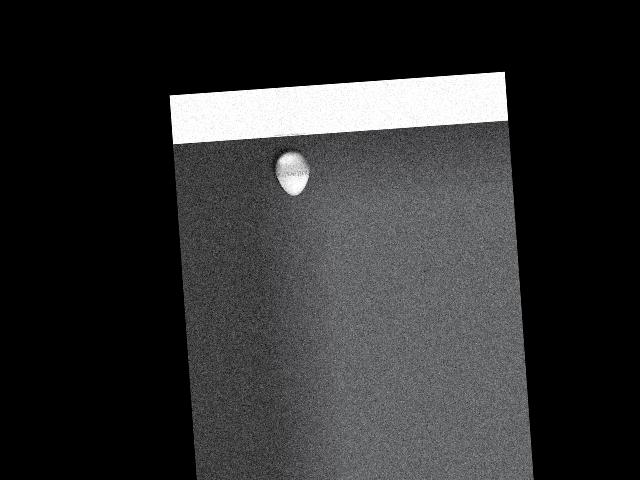egg: (273, 149, 311, 197)
